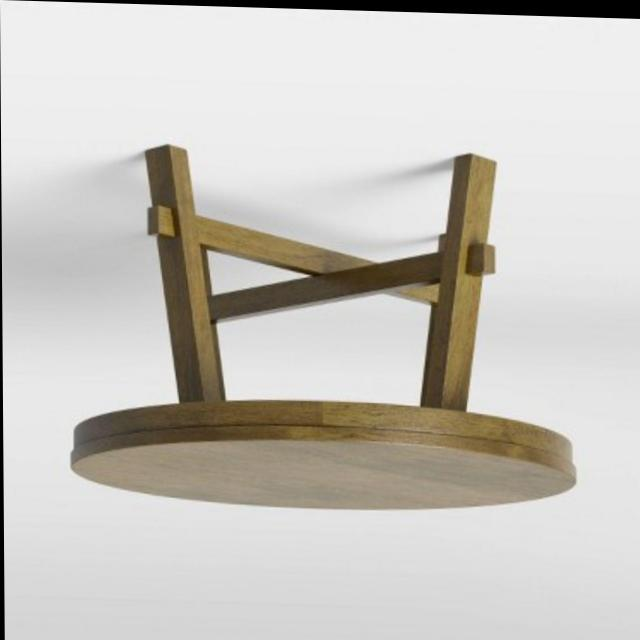Table: (70, 112, 592, 534)
